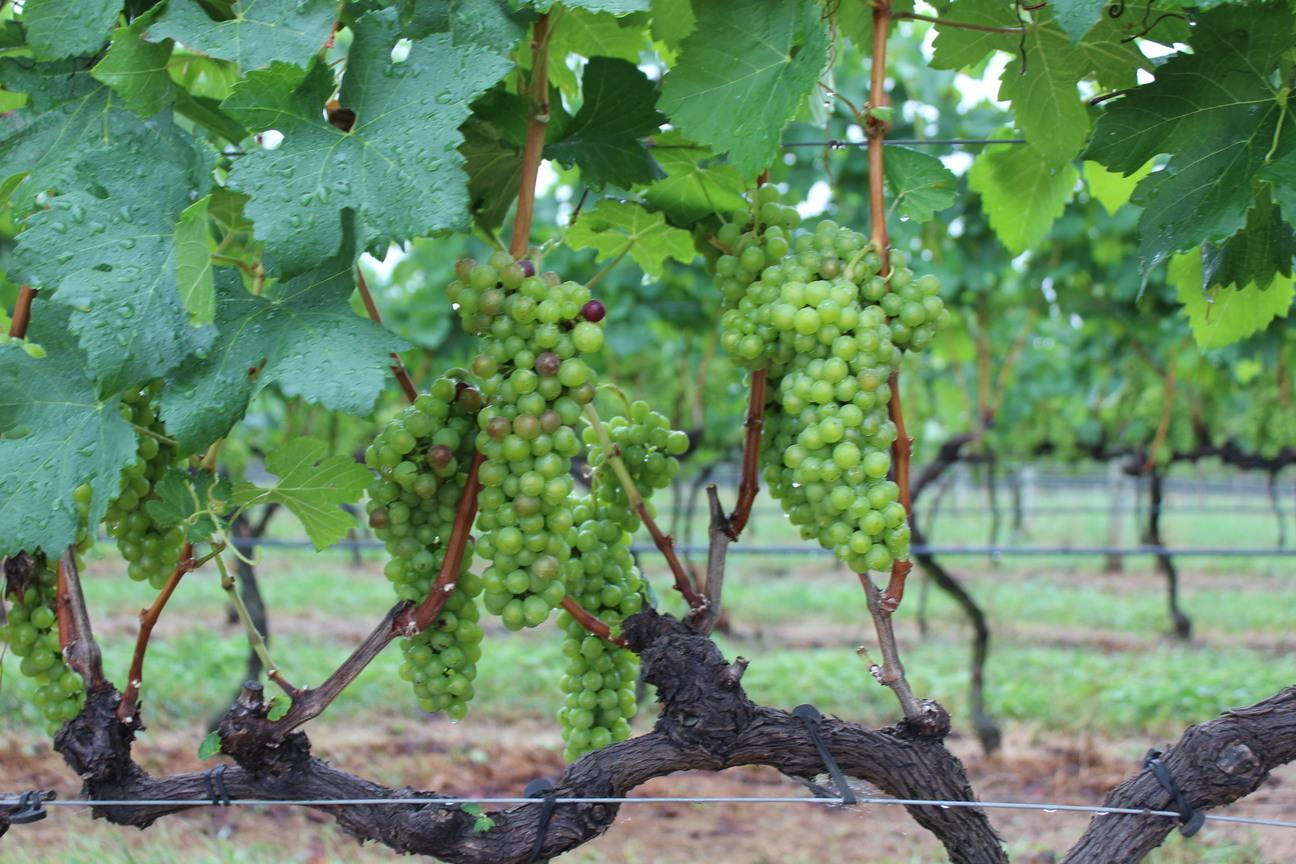leaf: (224, 9, 510, 271), (1084, 5, 1295, 271), (13, 132, 213, 390), (162, 244, 405, 452), (0, 301, 136, 554), (659, 0, 829, 175), (543, 56, 664, 187), (231, 437, 371, 549), (145, 0, 336, 71), (1167, 251, 1295, 348), (967, 144, 1077, 252), (564, 198, 696, 276), (643, 129, 746, 224), (92, 13, 174, 116), (23, 0, 120, 59), (884, 145, 957, 221)
